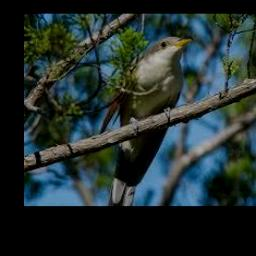Cuckoo: (98, 36, 194, 206)
